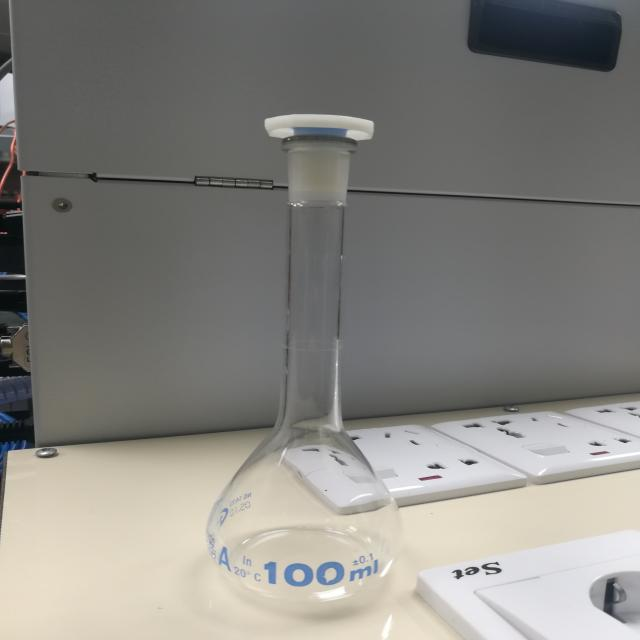Volumetric_Flask: (196, 76, 433, 629)
